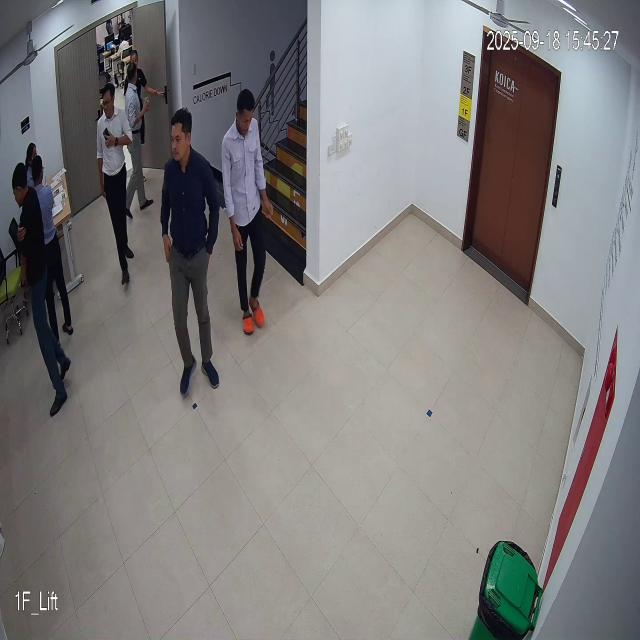face: (168, 107, 195, 167), (235, 90, 259, 136)
